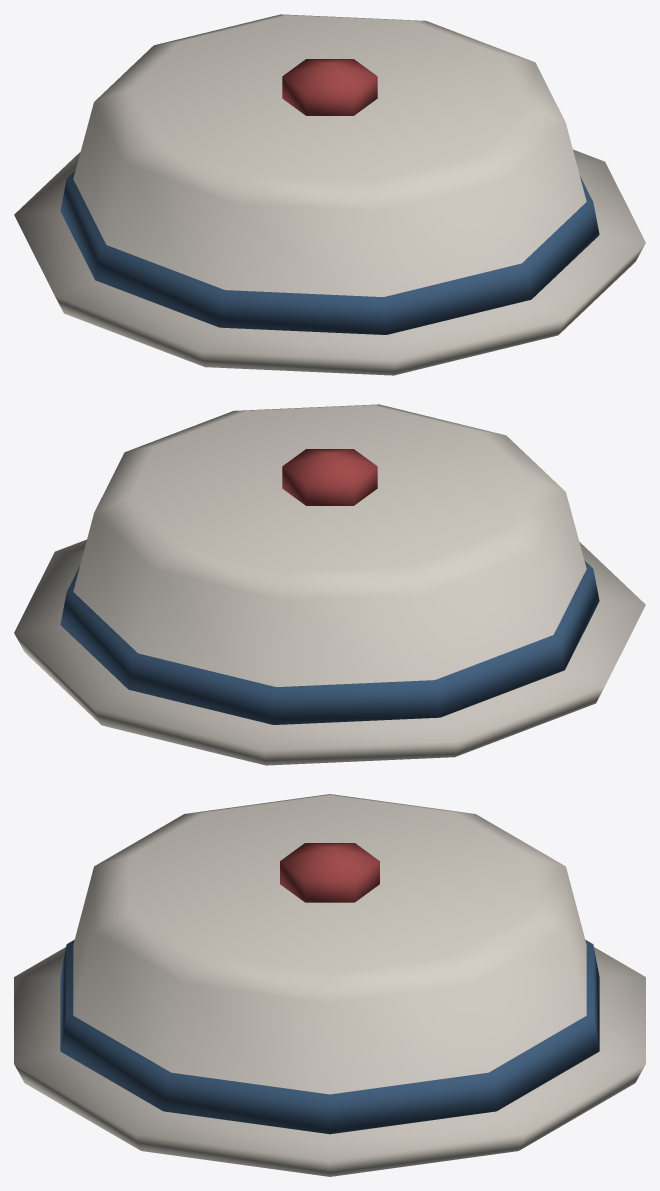
Rendered from wear_sailor.glb.
3 views of the same model, one above another, from view 1: azimuth 30°, elevation 25°; view 2: azimuth 150°, elevation 25°; view 3: azimuth 270°, elevation 25° (orthographic). The views are drawn at different scales.
Parts seen in each view (by area): view 1: Item; view 2: Item; view 3: Item.
Part boxes in pixels (left/top/right/bottom): Item: left=14, top=14, right=645, bottom=375; Item: left=14, top=404, right=645, bottom=765; Item: left=14, top=794, right=645, bottom=1176.
Size of the model in its own units: 0.495 by 0.17 by 0.4708.
